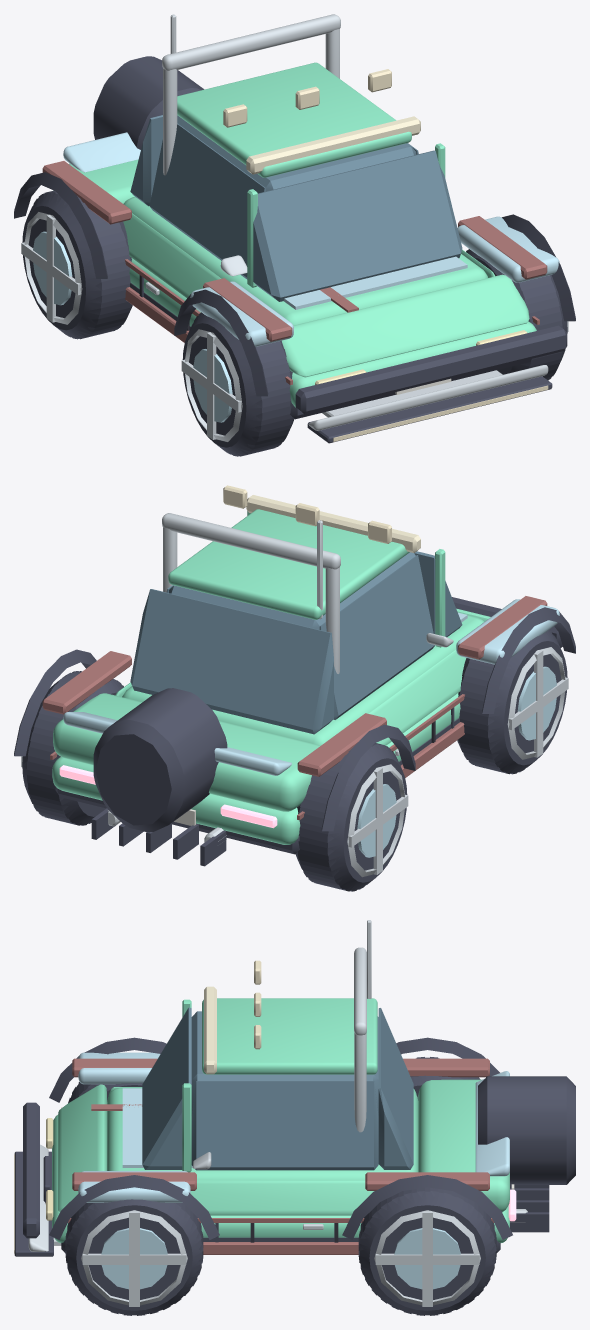
File: switchback_six.fbx
3 views of the same model, one above another, from view 1: azimuth 30°, elevation 25°; view 2: azimuth 150°, elevation 25°; view 3: azimuth 270°, elevation 25° (orthographic). The views are drawn at different scales.
Parts seen in each view (by area): view 1: Body, Glass, Trim, Accent2, Accent3, Wheel_RR, Accent, Wheel_FR, Metal, Wheel_FL, Metal2, Light4 (+1 smaller); view 2: Body, Glass, Trim, Wheel_RR, Accent, Wheel_FR, Metal, Accent2, Wheel_RL, Accent3, Metal2, Light4 (+2 smaller); view 3: Body, Glass, Trim, Wheel_RL, Wheel_FL, Accent, Metal, Accent3, Metal2, Accent2, Light4, Light.
Boxes of the visible parts, left/top/right/bottom form: Body: left=53, top=62, right=536, bottom=407; Glass: left=130, top=115, right=462, bottom=301; Trim: left=14, top=56, right=575, bottom=443; Accent2: left=162, top=14, right=548, bottom=430; Accent3: left=63, top=132, right=559, bottom=346; Wheel_RR: left=22, top=190, right=132, bottom=339; Accent: left=42, top=161, right=547, bottom=385; Wheel_FR: left=182, top=312, right=294, bottom=456; Metal: left=21, top=212, right=568, bottom=441; Wheel_FL: left=466, top=249, right=567, bottom=380; Metal2: left=33, top=231, right=232, bottom=422; Light4: left=246, top=116, right=420, bottom=174; Body: left=52, top=509, right=490, bottom=844; Glass: left=130, top=551, right=462, bottom=734; Trim: left=14, top=597, right=575, bottom=866; Wheel_RR: left=295, top=743, right=407, bottom=891; Accent: left=42, top=596, right=547, bottom=820; Wheel_FR: left=457, top=630, right=567, bottom=774; Metal: left=21, top=647, right=568, bottom=877; Accent2: left=162, top=513, right=453, bottom=673; Wheel_RL: left=22, top=671, right=123, bottom=825; Accent3: left=63, top=599, right=559, bottom=775; Metal2: left=357, top=666, right=556, bottom=857; Light4: left=246, top=495, right=420, bottom=552; Body: left=52, top=998, right=509, bottom=1242; Glass: left=142, top=1007, right=413, bottom=1170; Trim: left=14, top=1037, right=575, bottom=1256; Wheel_RL: left=358, top=1187, right=496, bottom=1315; Wheel_FL: left=65, top=1199, right=203, bottom=1315; Accent: left=61, top=1058, right=494, bottom=1254; Metal: left=53, top=1209, right=527, bottom=1306; Accent3: left=78, top=1052, right=509, bottom=1202; Metal2: left=101, top=1228, right=460, bottom=1289; Accent2: left=28, top=920, right=371, bottom=1251; Light4: left=204, top=986, right=216, bottom=1074; Light: left=14, top=960, right=261, bottom=1253.
Bounding box in the file's own units: 3.51 × 3.28 × 5.65.
